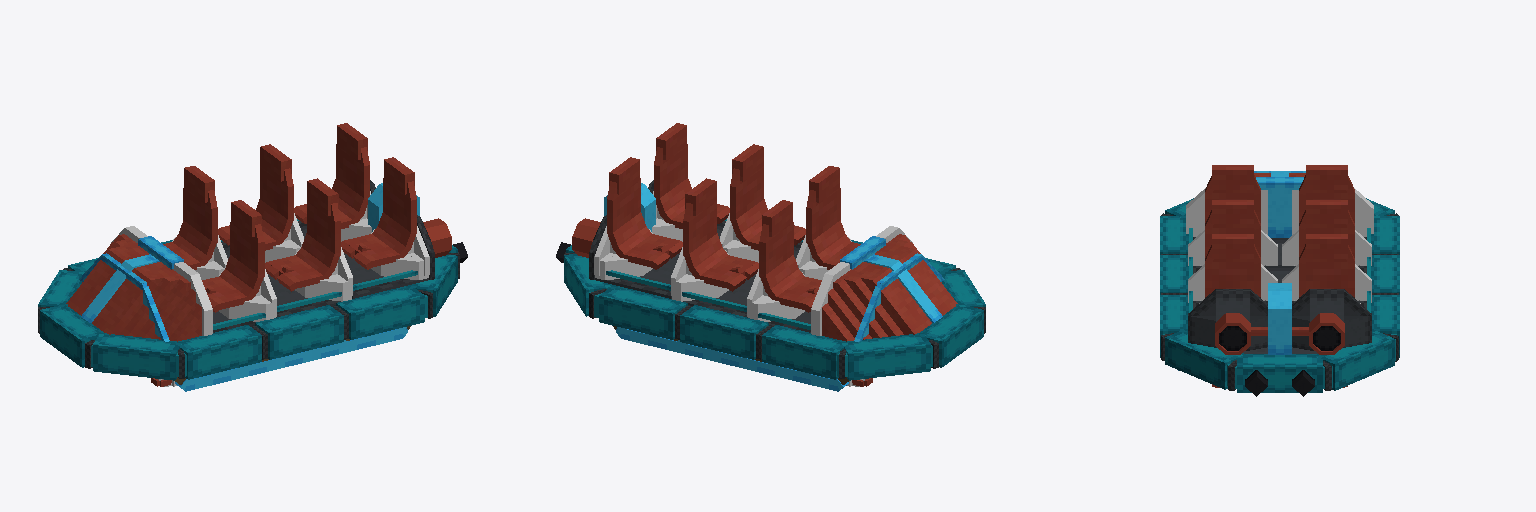
3 renders of one model, left to right at view 1: azimuth 30°, elevation 25°; view 2: azimuth 150°, elevation 25°; view 3: azimuth 270°, elevation 25°, orthographic.
Parts seen in each view (by area): view 1: octagon, cube; view 2: octagon, cube; view 3: octagon, cube.
Boxes of the visible parts, box(x1,y1,x2,y2) form: octagon: box(38, 180, 459, 391); cube: box(151, 123, 467, 386); octagon: box(564, 180, 985, 391); cube: box(556, 123, 872, 386); octagon: box(1160, 171, 1399, 392); cube: box(1189, 165, 1370, 396).
Bounding box in the file's own units: 2.4 × 0.9142 × 1.28.
Materials: 10 (9 with a texture image).